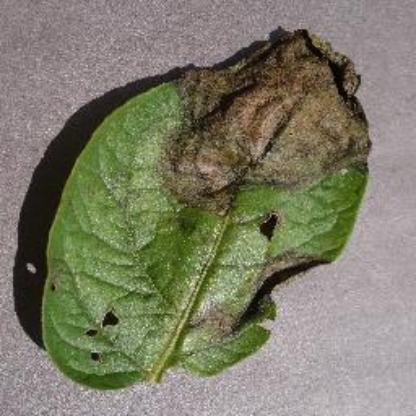Late-Blight: (32, 25, 372, 391)
